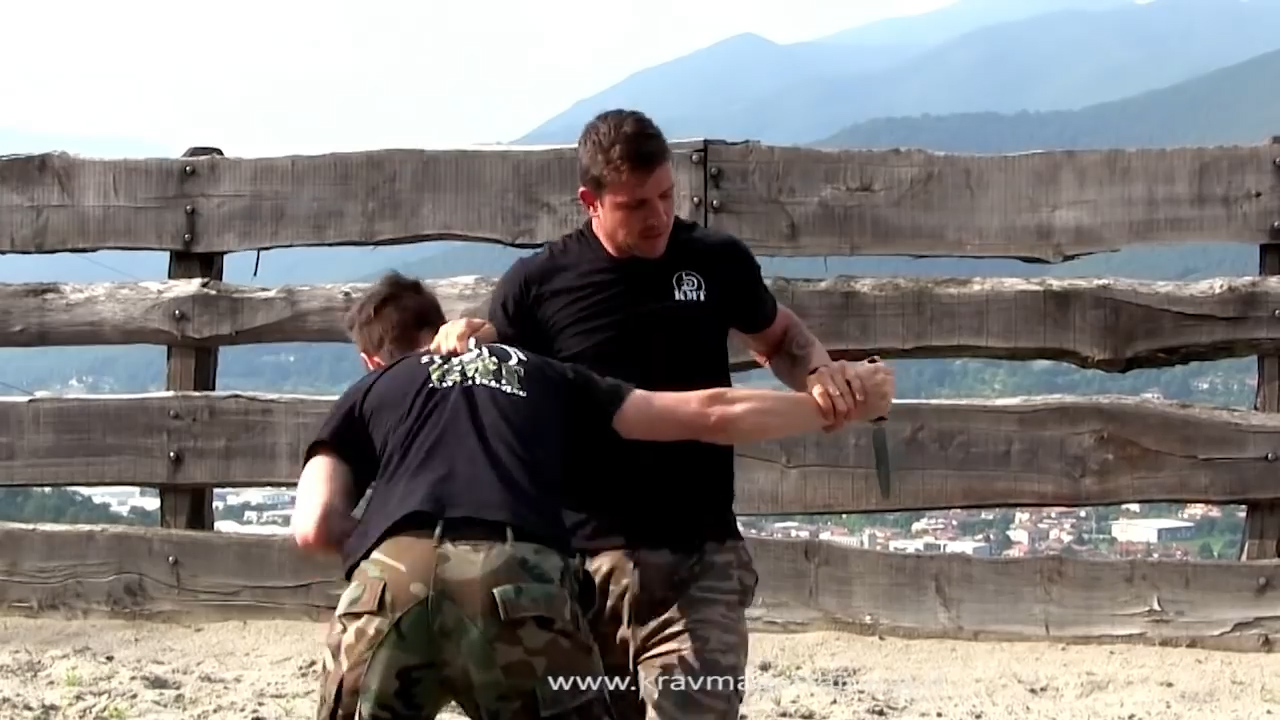knife: (854, 348, 904, 510)
